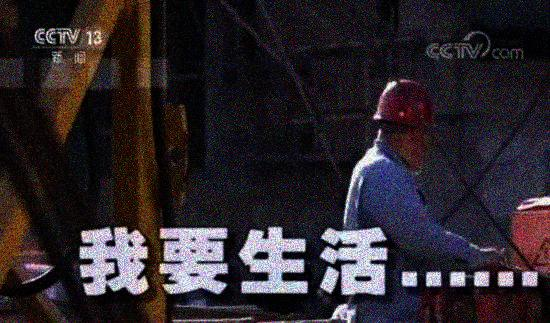helmet: (370, 79, 437, 171)
